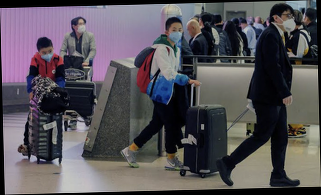with_mask: (280, 12, 297, 34), (169, 26, 184, 44), (39, 47, 55, 63), (75, 21, 87, 35)
